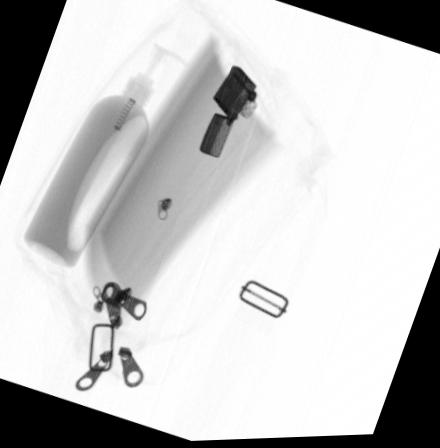Lighter: (198, 68, 258, 159)
